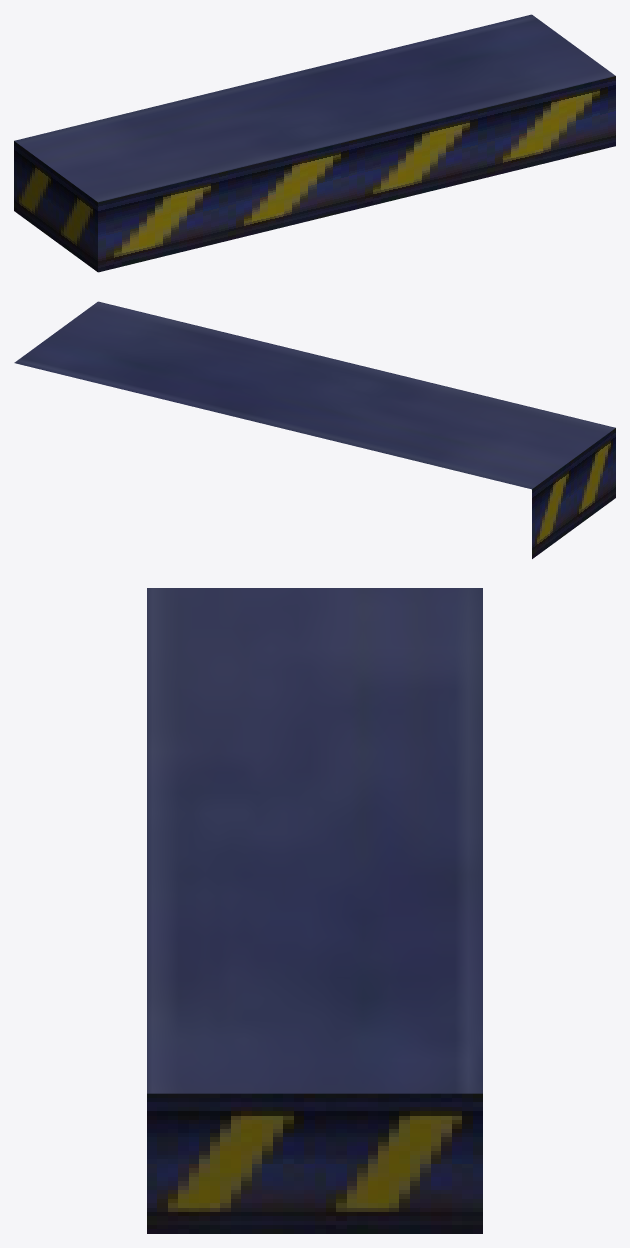
The model's file is toonblitz_block12.glb.
The picture shows the model from 3 angles, top to bottom: view 1: azimuth 30°, elevation 25°; view 2: azimuth 150°, elevation 25°; view 3: azimuth 270°, elevation 25°; orthographic projection. The views are drawn at different scales.
Visible parts, largest first — view 1: blocktop, blocksides; view 2: blocktop, blocksides; view 3: blocktop, blocksides.
Boxes of the visible parts, x1=… form: blocktop: x1=14, y1=14, x2=615, y2=202; blocksides: x1=14, y1=76, x2=615, y2=272; blocktop: x1=14, y1=301, x2=615, y2=489; blocksides: x1=532, y1=428, x2=615, y2=558; blocktop: x1=147, y1=588, x2=482, y2=1093; blocksides: x1=147, y1=1093, x2=482, y2=1233.
Bounding box in the file's own units: 12 × 1.55 × 3.37.
2 materials, 2 textured.
